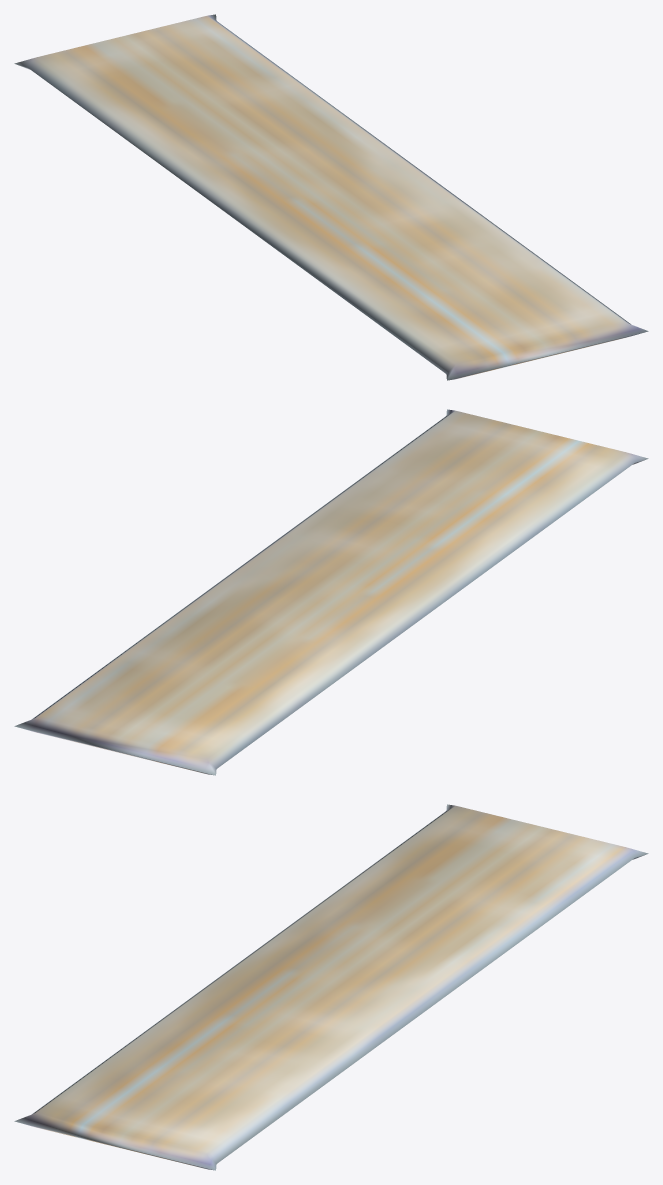
The model's file is jsf_Rod_02_Set.fbx.
3 views of the same model, one above another, from view 1: azimuth 30°, elevation 25°; view 2: azimuth 150°, elevation 25°; view 3: azimuth 330°, elevation 25° (orthographic).
Parts seen in each view (by area): view 1: jsf_Rod_02_Set; view 2: jsf_Rod_02_Set; view 3: jsf_Rod_02_Set.
Part boxes in pixels (<box>): jsf_Rod_02_Set: <box>14,14,648,380</box>; jsf_Rod_02_Set: <box>14,409,648,775</box>; jsf_Rod_02_Set: <box>14,804,648,1170</box>.
Bounding box in the file's own units: 11.04 × 0.7768 × 41.
